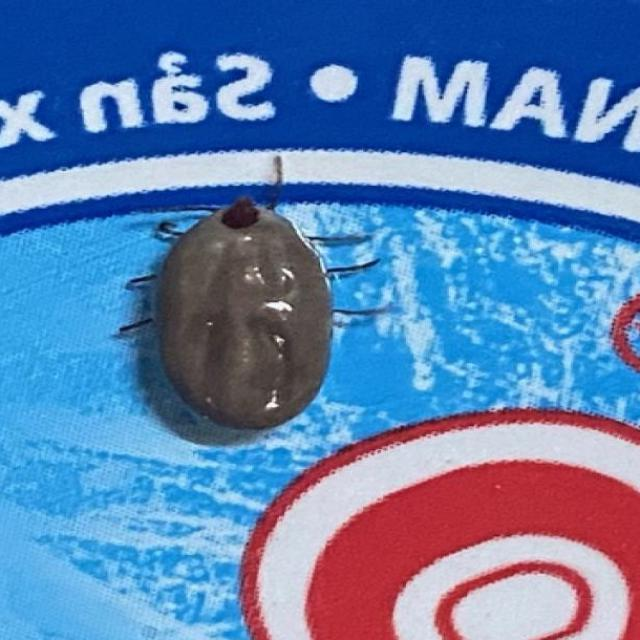Rhipicephalus Sanguineus-F-Fed: (118, 155, 386, 429)
